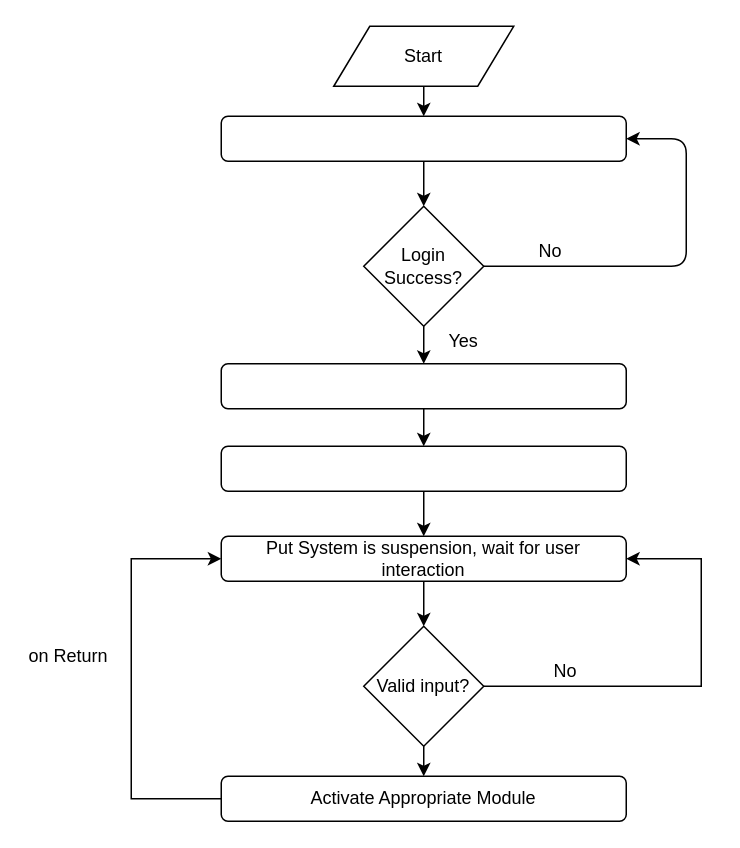
This 740x848 diagram has some shape labels left out. Here are the shapes that lost their labels. From the top down, the box of each, then its label:
(220, 115, 626, 161): Wait for user to Login
(220, 362, 626, 409): Determine User type, show access options
(220, 445, 626, 491): Find all stock options, generate transaction report, generate graph
